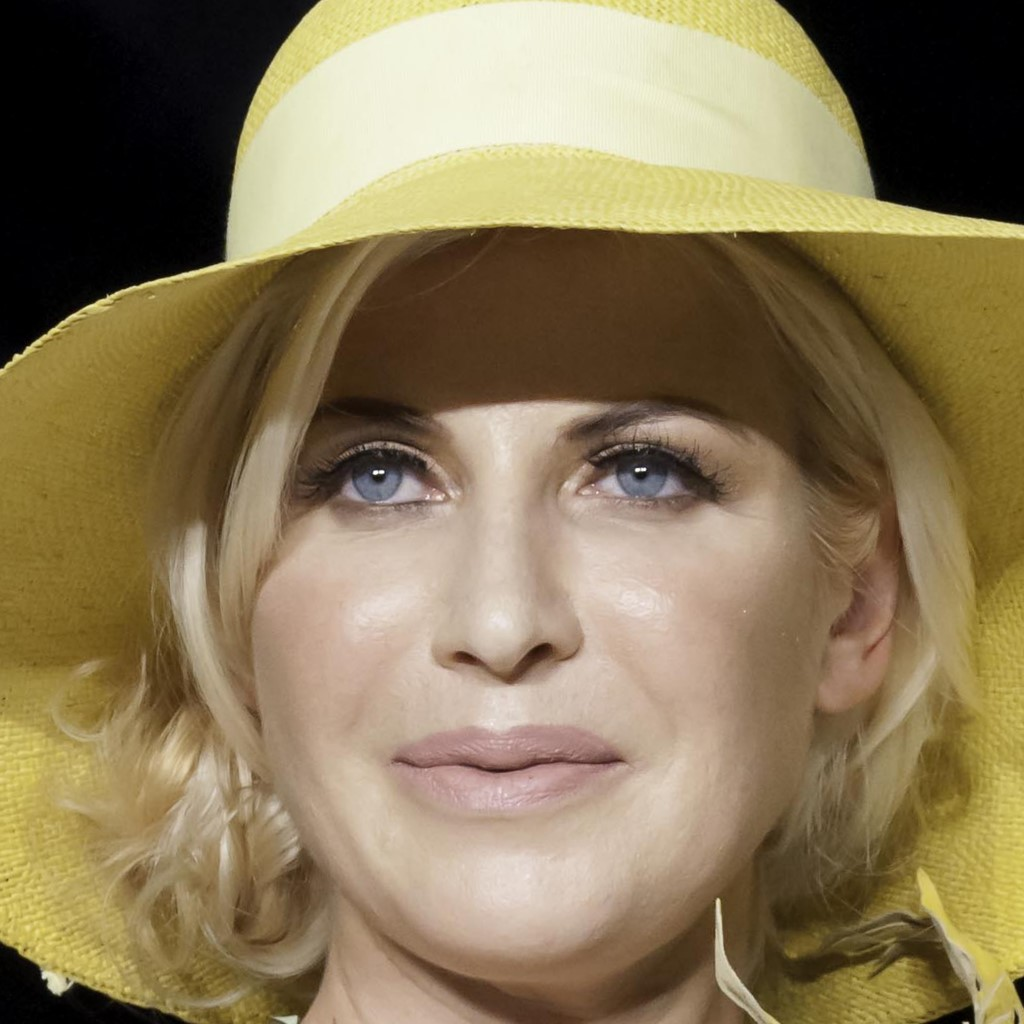sin_mascara: (225, 149, 856, 970)
